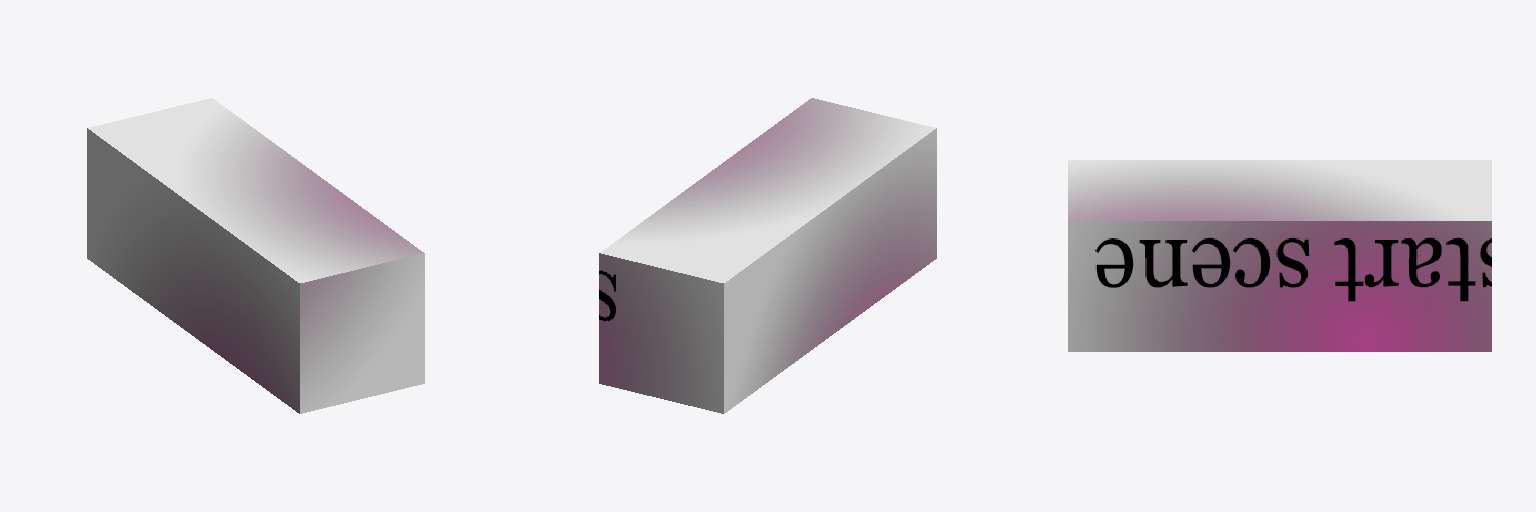
3 renders of one model, left to right at view 1: azimuth 30°, elevation 25°; view 2: azimuth 150°, elevation 25°; view 3: azimuth 270°, elevation 25°, orthographic.
Parts seen in each view (by area): view 1: Cube; view 2: Cube; view 3: Cube.
Boxes of the visible parts, box(x1,y1,x2,y2) form: Cube: box(87, 98, 424, 413); Cube: box(599, 98, 936, 413); Cube: box(1068, 160, 1491, 351).
Bounding box in the file's own units: 2 × 2 × 5.9.
Materials: 1 (1 with a texture image).